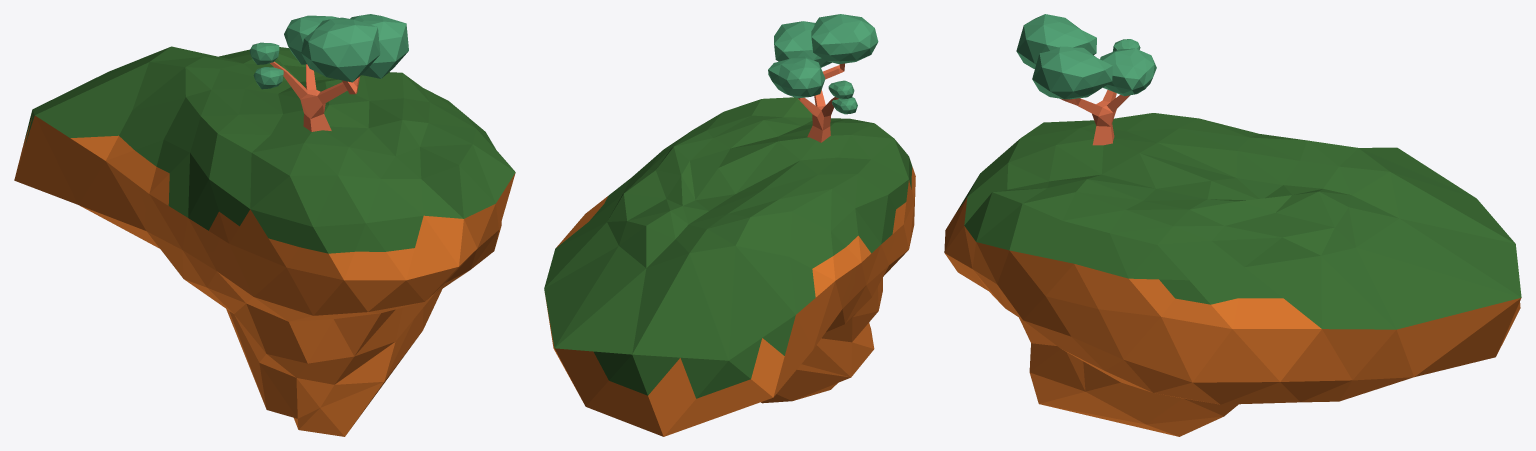
File: Isla5.fbx
3 renders of one model, left to right at view 1: azimuth 30°, elevation 25°; view 2: azimuth 150°, elevation 25°; view 3: azimuth 270°, elevation 25°, orthographic. The views are drawn at different scales.
Parts seen in each view (by area): view 1: Tierra; view 2: Tierra; view 3: Tierra.
Boxes of the visible parts, left/top/right/bottom form: Tierra: left=14, top=14, right=515, bottom=436; Tierra: left=544, top=14, right=915, bottom=436; Tierra: left=944, top=14, right=1521, bottom=436.
Size of the model in its own units: 7.74 by 9.04 by 11.78.
